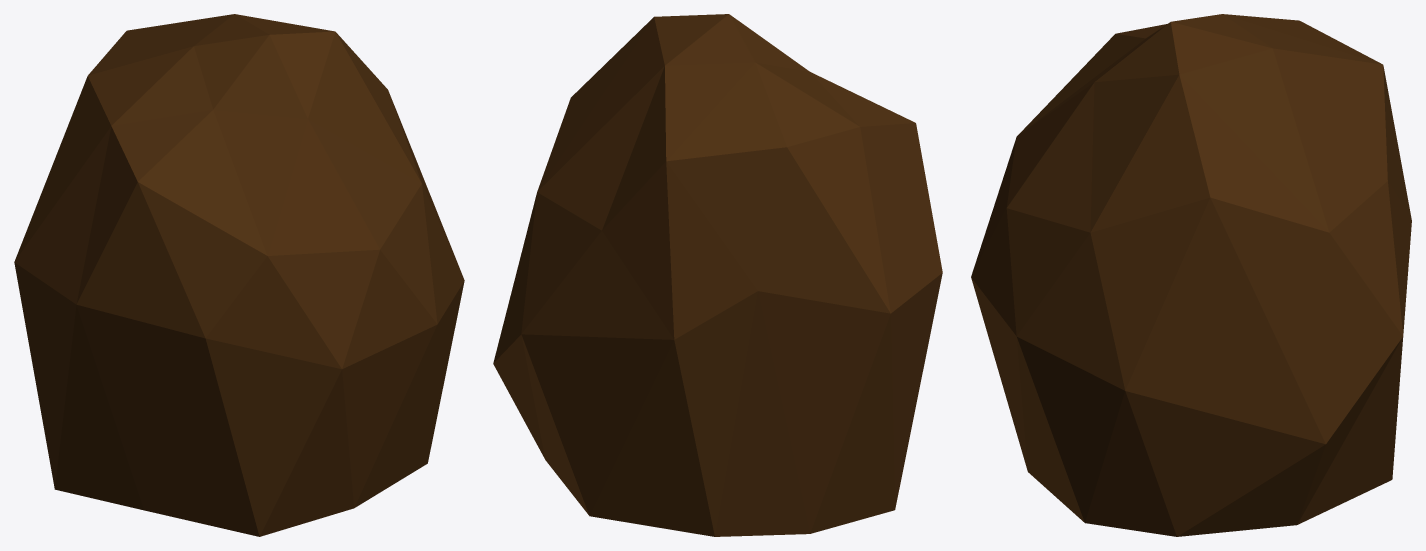
Rendered from Flat Rock 6.fbx.
3 renders of one model, left to right at view 1: azimuth 30°, elevation 25°; view 2: azimuth 150°, elevation 25°; view 3: azimuth 270°, elevation 25°, orthographic. The views are drawn at different scales.
Parts seen in each view (by area): view 1: Flat Rock 6; view 2: Flat Rock 6; view 3: Flat Rock 6.
Part boxes in pixels (x1,y1,x2,y2): Flat Rock 6: (14,14,464,536); Flat Rock 6: (493,14,942,536); Flat Rock 6: (971,14,1411,536).
Size of the model in its own units: 191 by 204 by 185.
